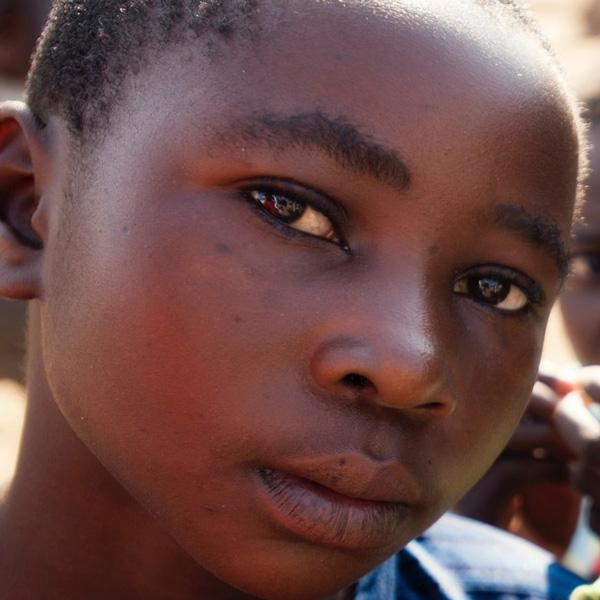Eyes: (224, 162, 356, 261), (442, 251, 545, 331)
